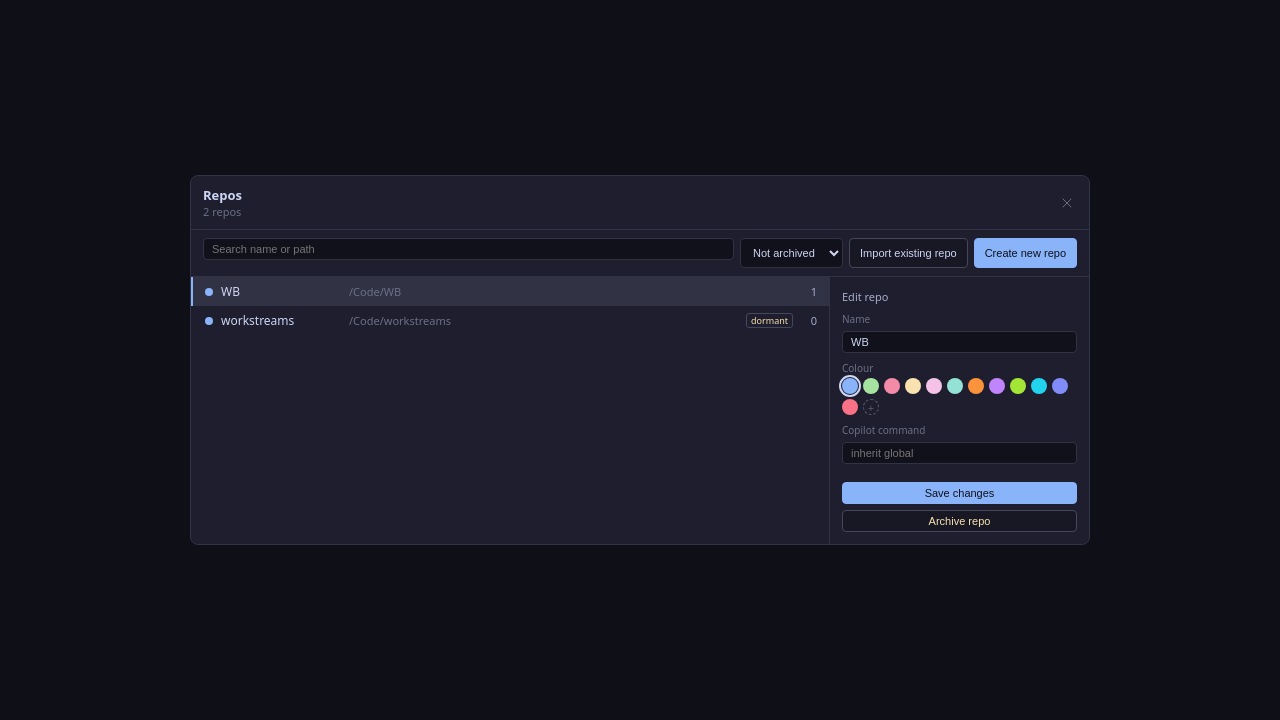
Test: RepoManagerModal › can show only non-dormant repos
This screenshot has width=1280, height=720.
Select "Non-dormant" in the dropdown with test id "repo-manager-filter" at (792, 253), box left=740, top=238, right=843, bottom=268
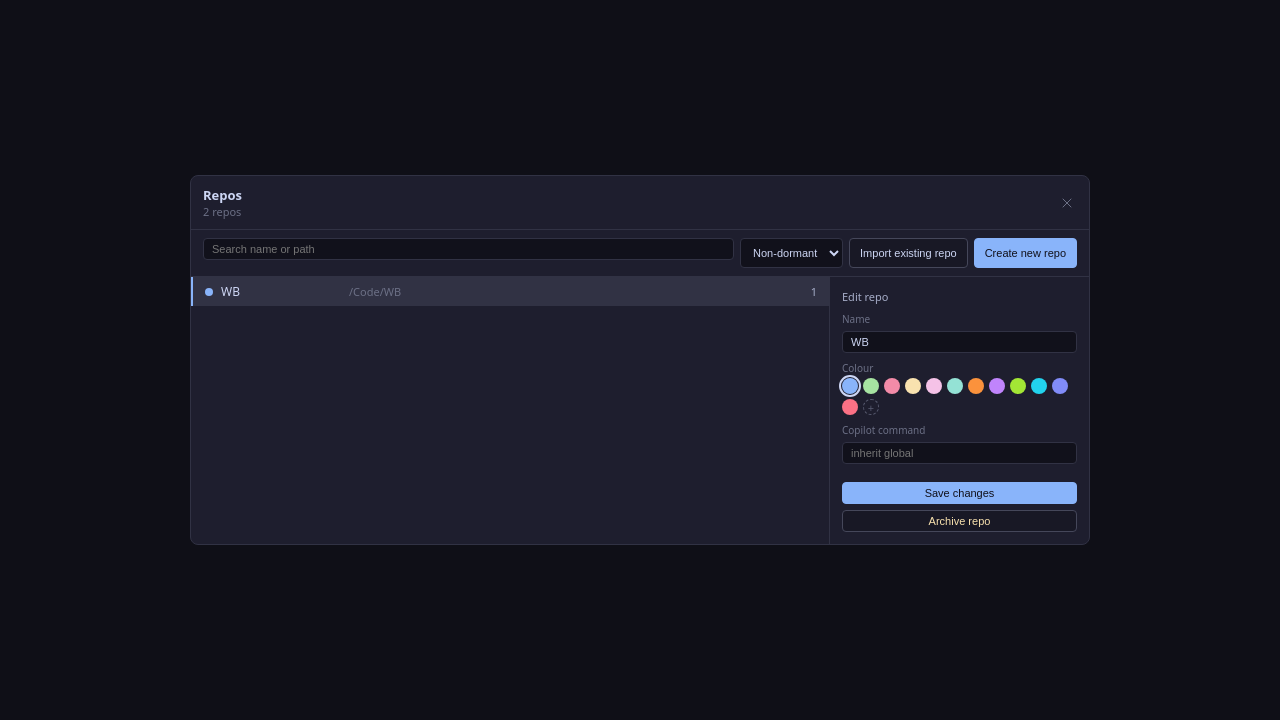
Expected: the button with test id "repo-manager-row-p1" is shown, left=191, top=277, right=829, bottom=306
Expected: the button with test id "repo-manager-row-p2" is gone
